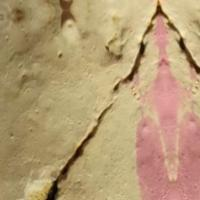crack: (35, 0, 199, 199)
